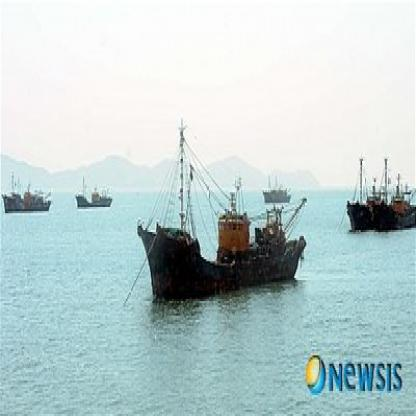fish-b: (125, 104, 320, 320)
